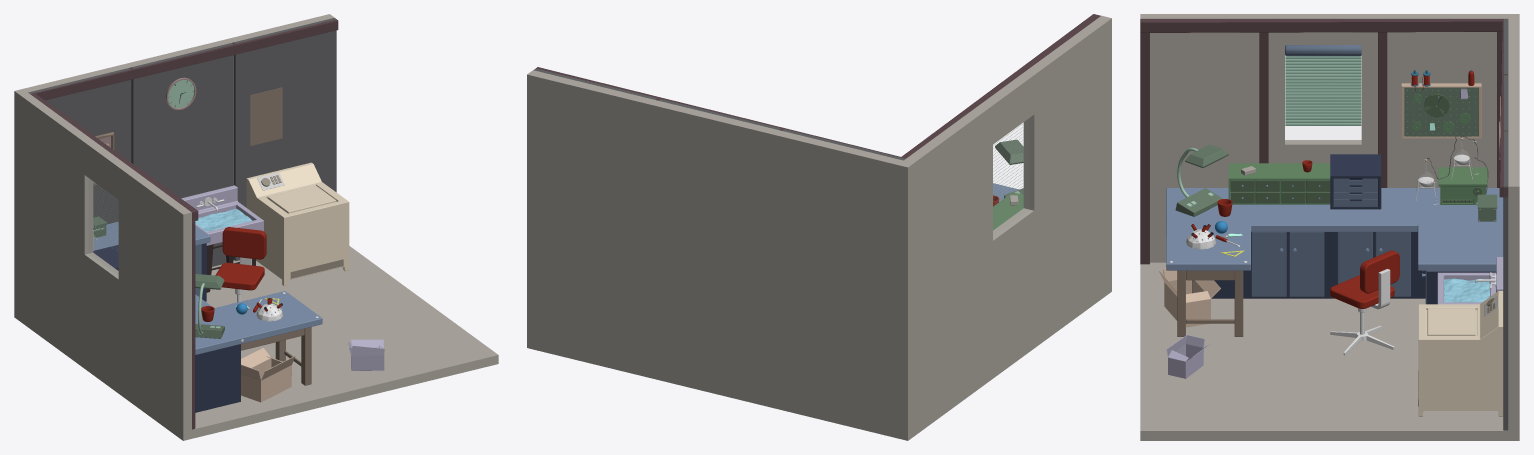
The model's file is Lab.glb.
The picture shows the model from 3 angles, left to right: view 1: azimuth 30°, elevation 25°; view 2: azimuth 150°, elevation 25°; view 3: azimuth 270°, elevation 25°; orthographic projection. The views are drawn at different scales.
Parts seen in each view (by area): view 1: walls.001, walls.003, washing machine.004, stand.001, walls.002, stand, box, poster, washbasin.008, legs, Plane.007, box.001 (+4 smaller); view 2: walls.001, walls.002, walls.003, file.002; view 3: walls.001, stand.001, washing machine.004, Plane.002, walls.002, walls, walls.005, stand, board_2.008, file.003, walls.003, file.002 (+18 smaller).
Part boxes in pixels (left/top/right/bottom): walls.001: left=14, top=14, right=498, bottom=440; walls.003: left=28, top=18, right=336, bottom=266; washing machine.004: left=246, top=162, right=349, bottom=286; stand.001: left=93, top=221, right=322, bottom=354; walls.002: left=28, top=19, right=338, bottom=221; stand: left=195, top=243, right=240, bottom=412; box: left=241, top=347, right=295, bottom=402; poster: left=250, top=87, right=282, bottom=145; washbasin.008: left=181, top=185, right=263, bottom=245; legs: left=241, top=327, right=311, bottom=385; Plane.007: left=222, top=227, right=266, bottom=259; box.001: left=348, top=339, right=384, bottom=370; walls.001: left=527, top=15, right=1111, bottom=440; walls.002: left=536, top=14, right=1100, bottom=158; walls.003: left=534, top=68, right=905, bottom=160; file.002: left=993, top=192, right=1023, bottom=230; walls.001: left=1140, top=14, right=1519, bottom=440; stand.001: left=1166, top=188, right=1503, bottom=271; washing machine.004: left=1418, top=291, right=1503, bottom=416; Plane.002: left=1251, top=232, right=1426, bottom=304; walls.002: left=1140, top=19, right=1508, bottom=197; walls: left=1140, top=32, right=1501, bottom=264; walls.005: left=1285, top=56, right=1361, bottom=125; stand: left=1211, top=232, right=1495, bottom=304; board_2.008: left=1404, top=87, right=1478, bottom=136; file.003: left=1230, top=180, right=1330, bottom=203; walls.003: left=1503, top=19, right=1508, bottom=430; file.002: left=1228, top=163, right=1330, bottom=204.
Size of the model in its own units: 2263 by 1552 by 2099.
